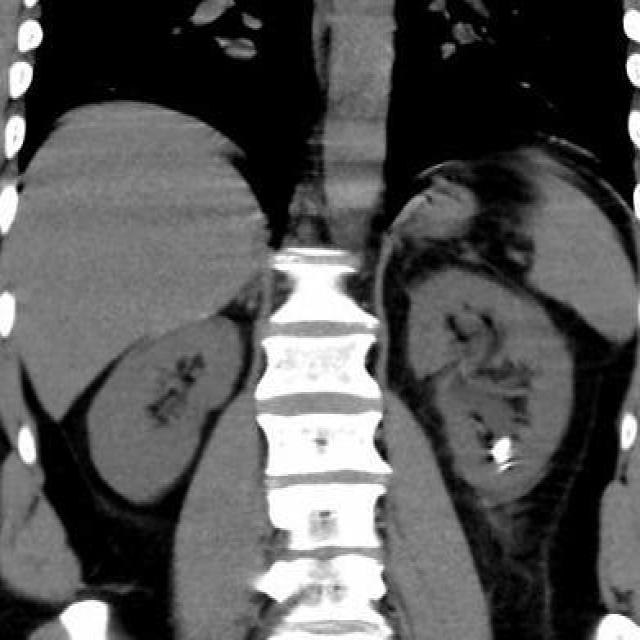Tas_Var: (490, 436, 512, 462), (497, 462, 521, 474)
